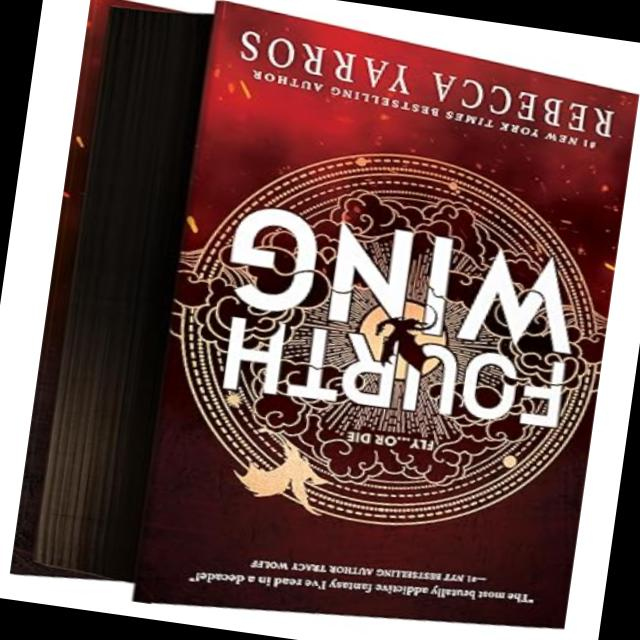titles-or-authors: (185, 188, 603, 452), (226, 16, 623, 146)
